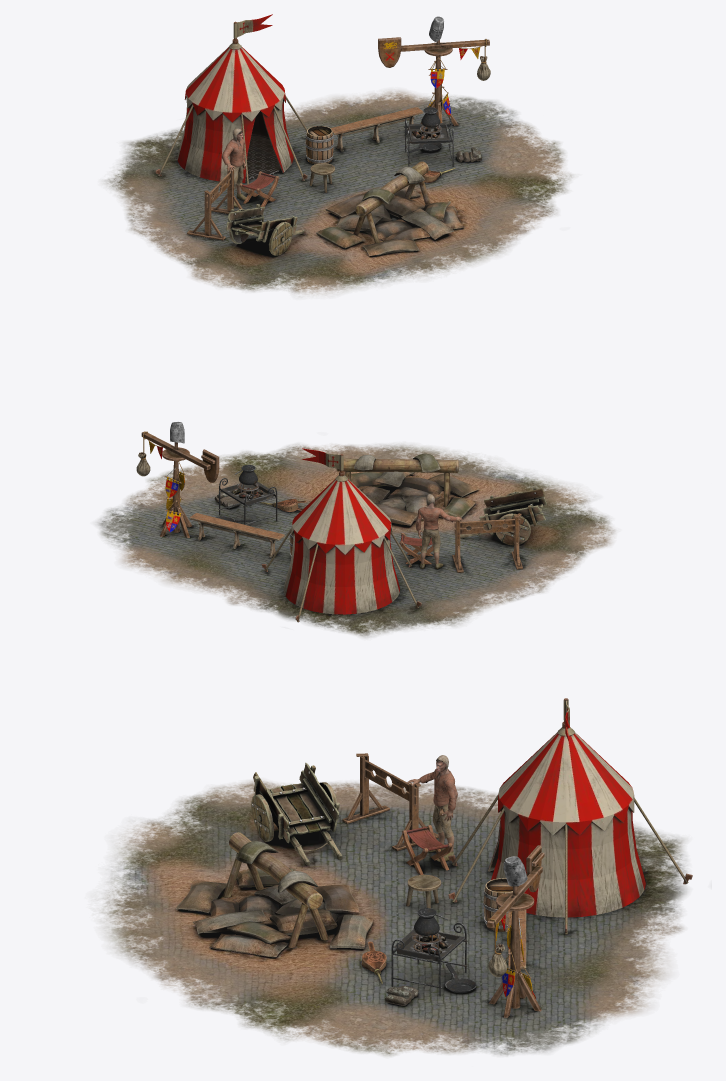
Rendered from fayre.glb.
The picture shows the model from 3 angles, top to bottom: view 1: azimuth 30°, elevation 25°; view 2: azimuth 150°, elevation 25°; view 3: azimuth 270°, elevation 25°; orthographic projection. The views are drawn at different scales.
Visible parts, largest first — view 1: defaultMaterial (×10); view 2: defaultMaterial (×9); view 3: defaultMaterial (×9).
Boxes of the visible parts, x1=… form: defaultMaterial (×10): x1=104, y1=14, x2=572, y2=294; defaultMaterial (×9): x1=95, y1=421, x2=615, y2=637; defaultMaterial (×9): x1=101, y1=698, x2=692, y2=1055.
Size of the model in its own units: 5.35 by 1.62 by 5.35.
Materials: 10 (10 with a texture image).
